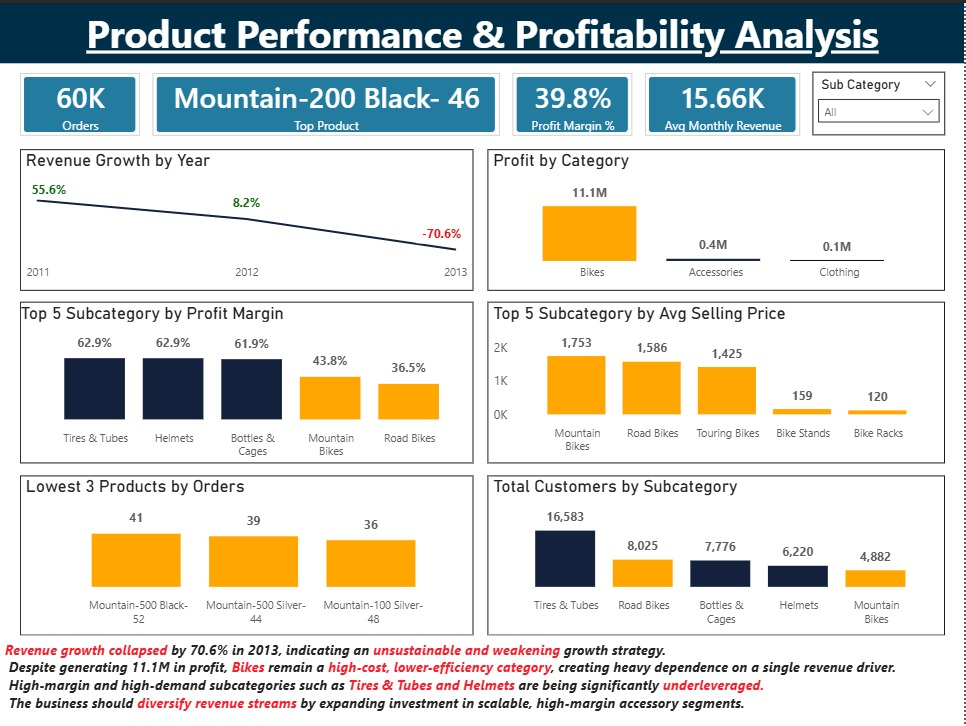

Layout of this report page (visuals, bound fields, positions):
{"tool":"powerbi","page":{"name":"Product Overview","canvas":[960,720],"ordinal":2},"visuals":[{"type":"lineClusteredColumnComboChart","title":"Top 5 Subcategory by Profit Margin","fields":{"Category":["Products_Report.subcategory"],"Y":["Products_Report.Profit Margin %"]},"box":[19.9,297.3,451.6,160.5],"z":0},{"type":"lineClusteredColumnComboChart","title":"Revenue Growth by Year","fields":{"Category":["Date_Table.Year"],"Y2":["Products_Report.YoY Growth %"]},"box":[19.9,145.5,451.6,140.6],"z":1000},{"type":"card","fields":{"Values":["Sum(Products_Report.Total_Quantity)"]},"box":[149,69.2,119.4,62.2],"z":2000},{"type":"card","fields":{"Values":["Sum(Products_Report.Total_Orders)"]},"box":[17.7,68.7,119.4,62.2],"z":3000},{"type":"card","fields":{"Values":["Min(Products_Report.product_name)"]},"box":[280.3,69.2,253.8,62.2],"z":4000},{"type":"card","fields":{"Values":["Products_Report.Profit Margin %"]},"box":[545.9,69.2,119.4,62.2],"z":5000},{"type":"clusteredColumnChart","title":"Top 5 Subcategory by Avg Selling Price","fields":{"Category":["Products_Report.subcategory"],"Y":["Products_Report.Avg Selling Price"]},"box":[485.1,297.3,455.3,160.5],"z":6000},{"type":"slicer","fields":{"Values":["Products_Report.subcategory"]},"box":[808.6,68.4,131.9,63.4],"z":7000},{"type":"textbox","box":[0,0,960.3,59.7],"z":8000},{"type":"card","fields":{"Values":["Products_Report.Avg Monthly Revenue"]},"box":[677.3,69.2,119.4,62.2],"z":9000},{"type":"clusteredColumnChart","title":"Profit by Category","fields":{"Category":["Products_Report.category"],"Y":["Products_Report.Profit"]},"box":[485.1,145.5,455.3,140.6],"z":10000},{"type":"lineClusteredColumnComboChart","title":"Lowest 3 Products by Orders","fields":{"Category":["Products_Report.product_name"],"Y":["Sum(Products_Report.Total_Orders)"]},"box":[19.9,470.2,451.6,159.2],"z":11000},{"type":"clusteredColumnChart","title":"Total Customers by Subcategory","fields":{"Y":["Sum(Products_Report.Total_Customers)"],"Category":["Products_Report.subcategory"]},"box":[485.1,470.2,455.3,159.2],"z":12000},{"type":"textbox","box":[0,638.2,960.3,82.1],"z":13000}]}

Visuals, with their boxes in screenshot pixels (x1, y1, x2, y2), scaled from the page's 960x720 canvas onto the 966x726 screenshot:
"Top 5 Subcategory by Profit Margin" lineClusteredColumnComboChart: 20:300:474:462
"Revenue Growth by Year" lineClusteredColumnComboChart: 20:147:474:288
card - Sum(Products_Report.Total_Quantity): 150:70:270:132
card - Sum(Products_Report.Total_Orders): 18:69:138:132
card - Min(Products_Report.product_name): 282:70:537:132
card - Products_Report.Profit Margin %: 549:70:669:132
"Top 5 Subcategory by Avg Selling Price" clusteredColumnChart: 488:300:946:462
slicer - Products_Report.subcategory: 814:69:946:133
textbox: 0:0:965:60
card - Products_Report.Avg Monthly Revenue: 682:70:802:132
"Profit by Category" clusteredColumnChart: 488:147:946:288
"Lowest 3 Products by Orders" lineClusteredColumnComboChart: 20:474:474:635
"Total Customers by Subcategory" clusteredColumnChart: 488:474:946:635
textbox: 0:644:965:725
